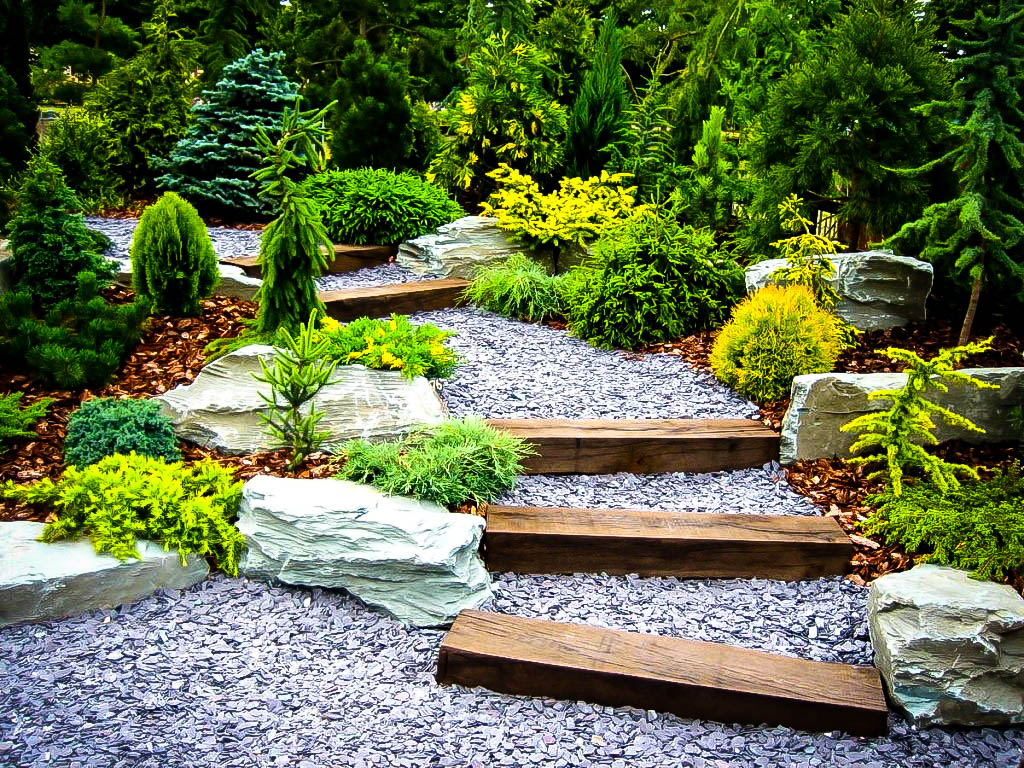plants: (427, 9, 896, 166), (902, 72, 1024, 360), (2, 151, 120, 366), (310, 11, 433, 170), (860, 342, 969, 519), (717, 276, 837, 402), (584, 215, 704, 341), (184, 55, 304, 181), (332, 173, 478, 245), (132, 195, 212, 326), (245, 198, 325, 329), (504, 185, 583, 314)
